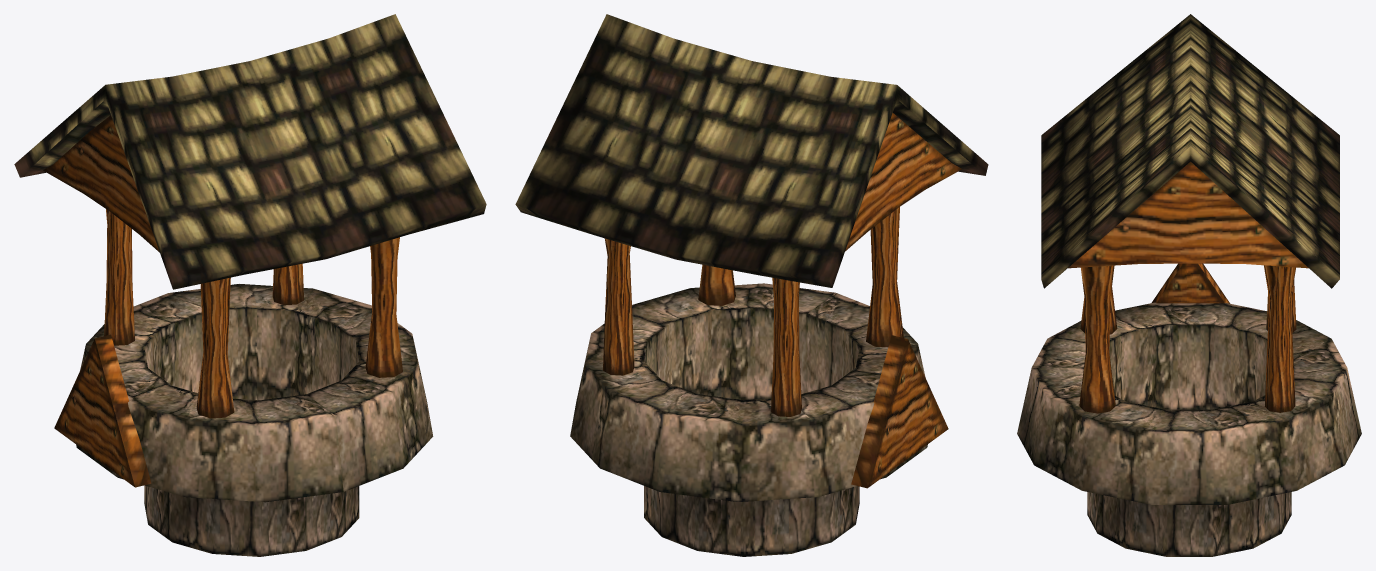
File: PAULSWELLTHATENDSWELL.fbx
3 renders of one model, left to right at view 1: azimuth 30°, elevation 25°; view 2: azimuth 150°, elevation 25°; view 3: azimuth 270°, elevation 25°, orthographic. The views are drawn at different scales.
Parts seen in each view (by area): view 1: PAULSWELLTHATENDSWELL; view 2: PAULSWELLTHATENDSWELL; view 3: PAULSWELLTHATENDSWELL.
Boxes of the visible parts, left/top/right/bottom form: PAULSWELLTHATENDSWELL: left=14, top=14, right=486, bottom=556; PAULSWELLTHATENDSWELL: left=515, top=14, right=988, bottom=556; PAULSWELLTHATENDSWELL: left=1017, top=14, right=1361, bottom=556.
Size of the model in its own units: 23172 by 32618 by 23494.
4 materials, 4 textured.
